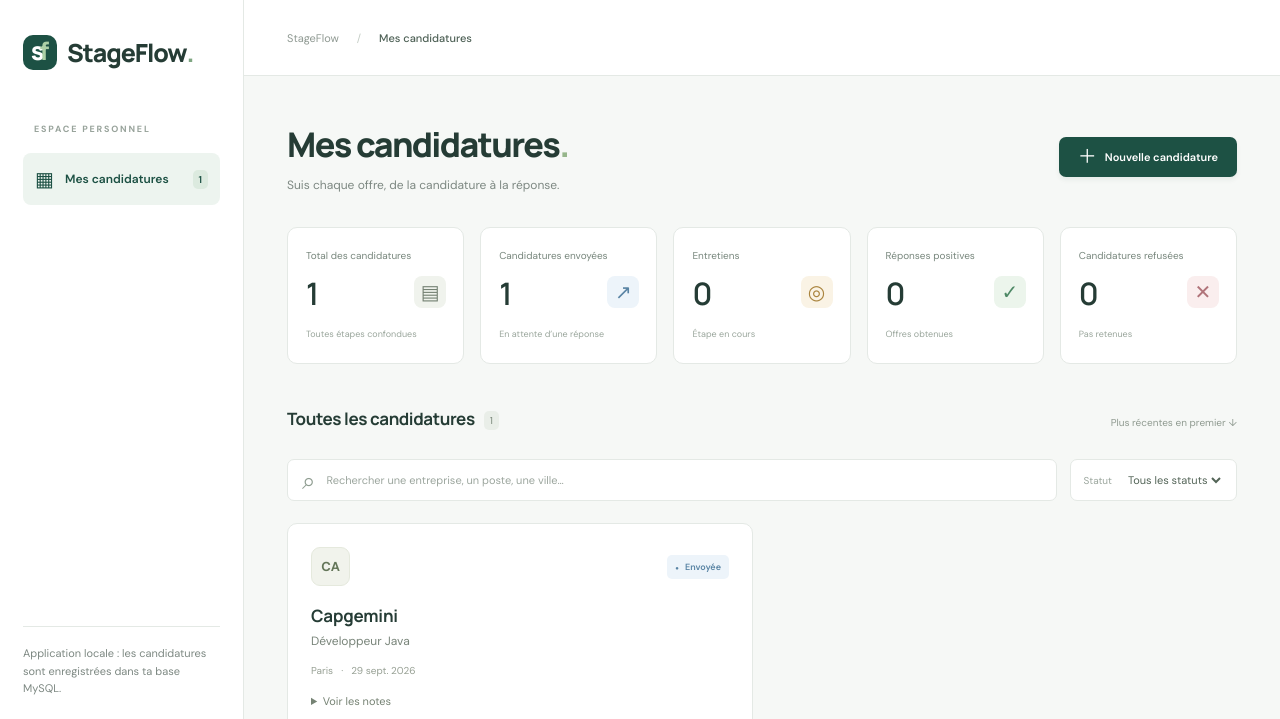
Test: crée une candidature depuis le formulaire
expect the heading "Capgemini" is shown: met, box [311,604,398,627]
Click the button "＋ Nouvelle candidature".
click(1148, 157)  # box [1059,137,1237,177]
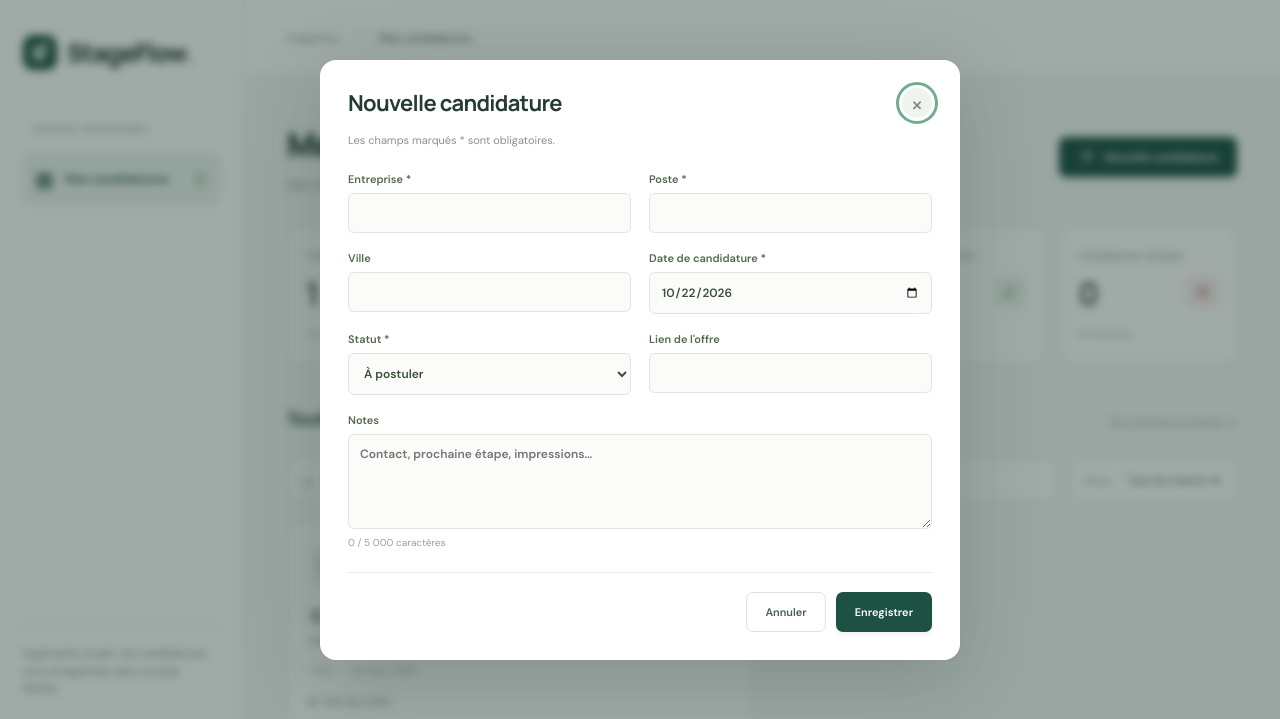
Type "Thales" into the field labelled "Entreprise *".
click(490, 213); type("Thales")  # box [348,193,631,233]
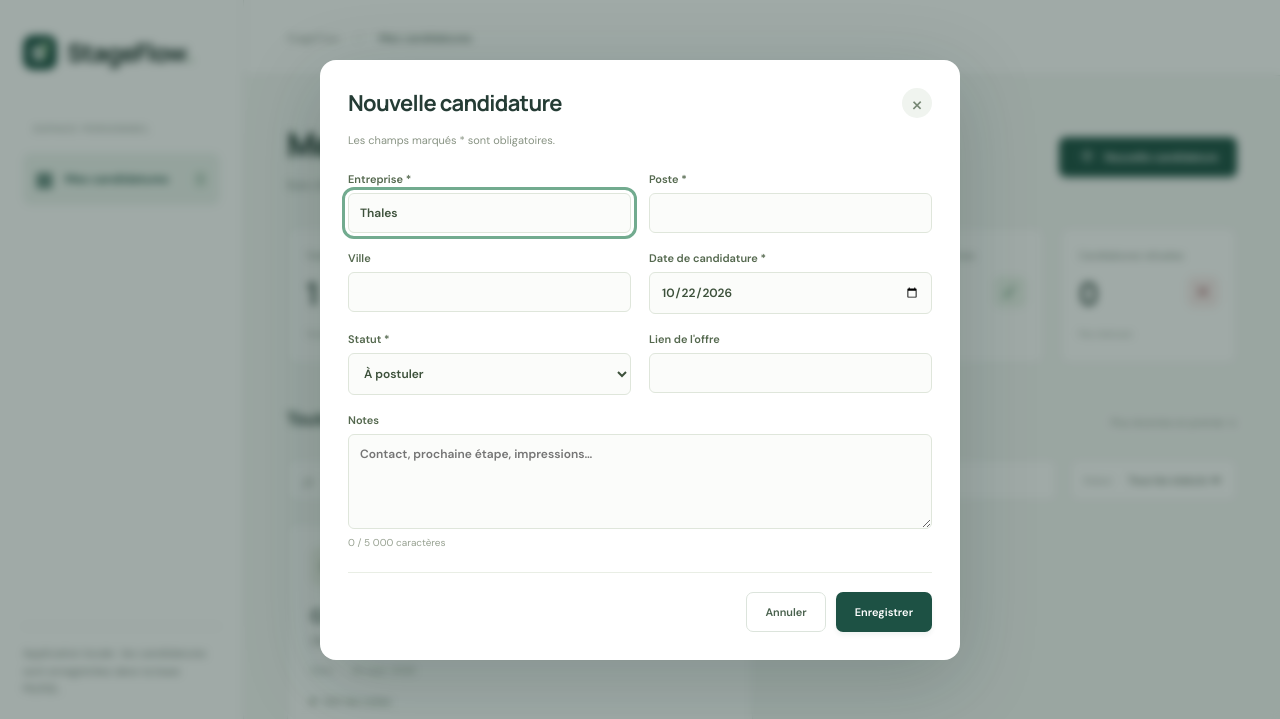
Type "Alternant React" into the field labelled "Poste *".
click(790, 213); type("Alternant React")  # box [649,193,932,233]
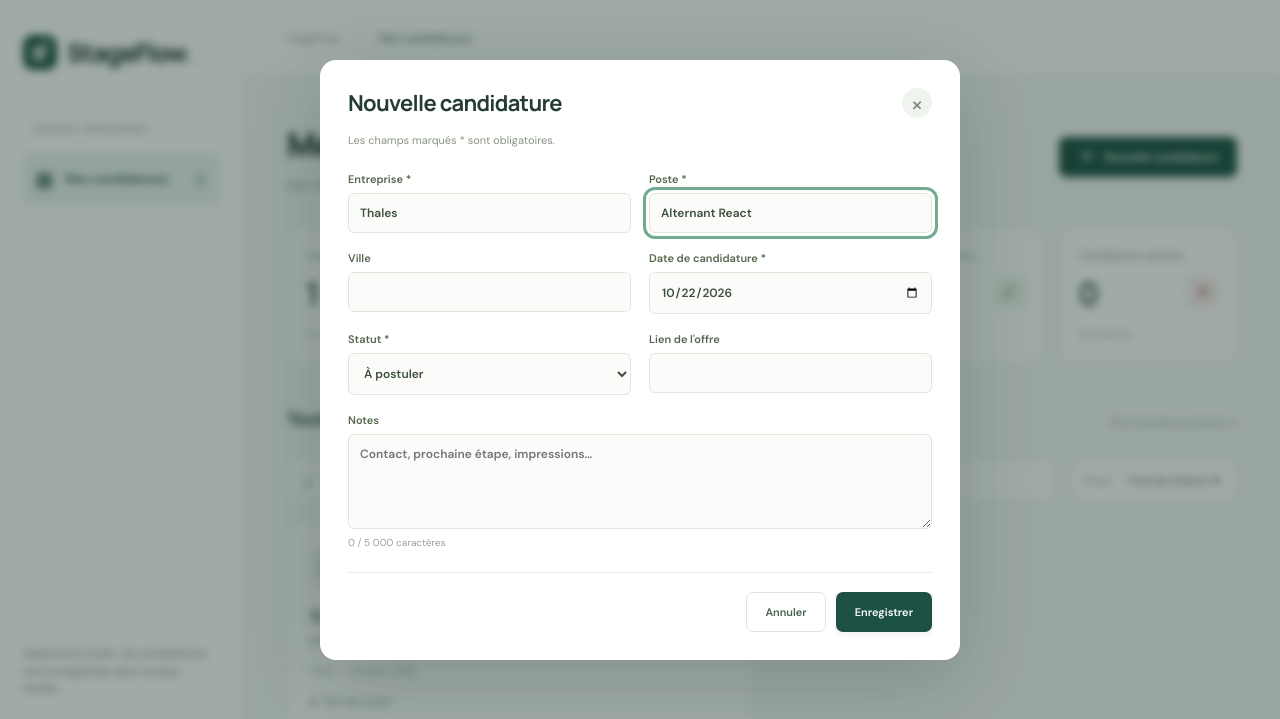
Click the button "Enregistrer".
click(884, 612)  # box [836,592,932,632]
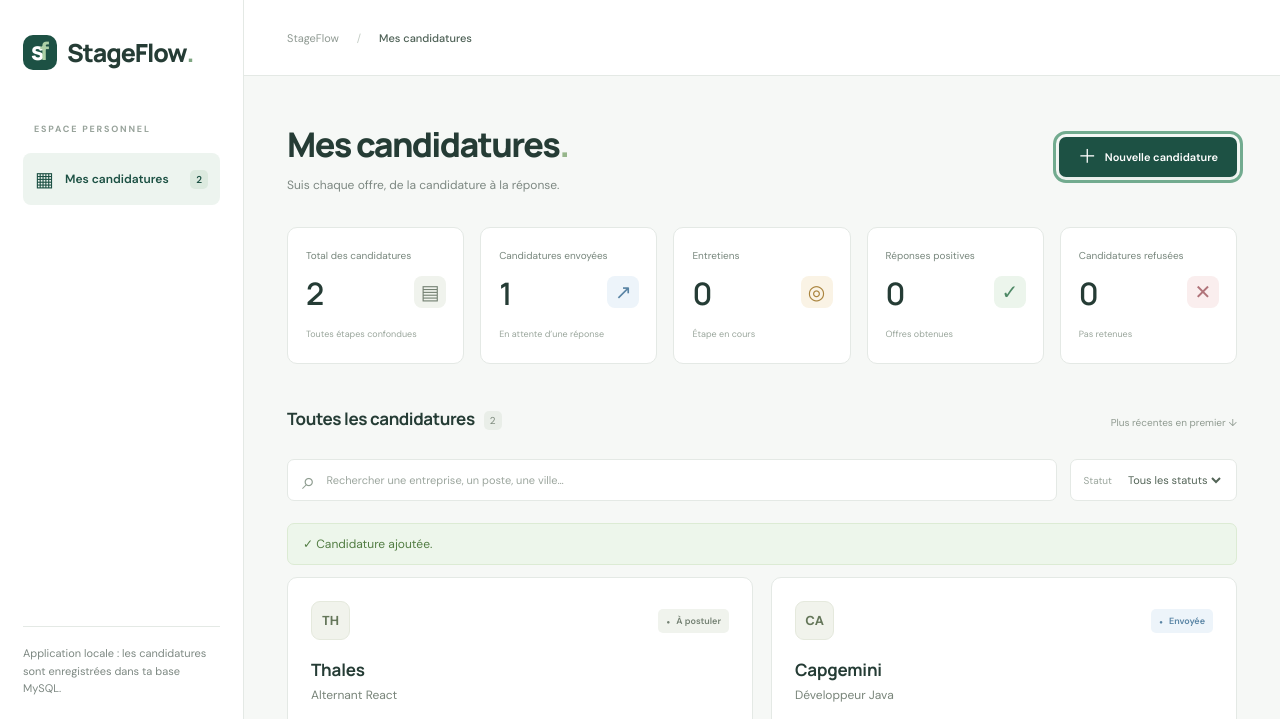
expect the heading "Thales" is shown: met, box [311,658,365,681]
expect the text "Alternant React" is shown: met, box [311,687,397,703]
